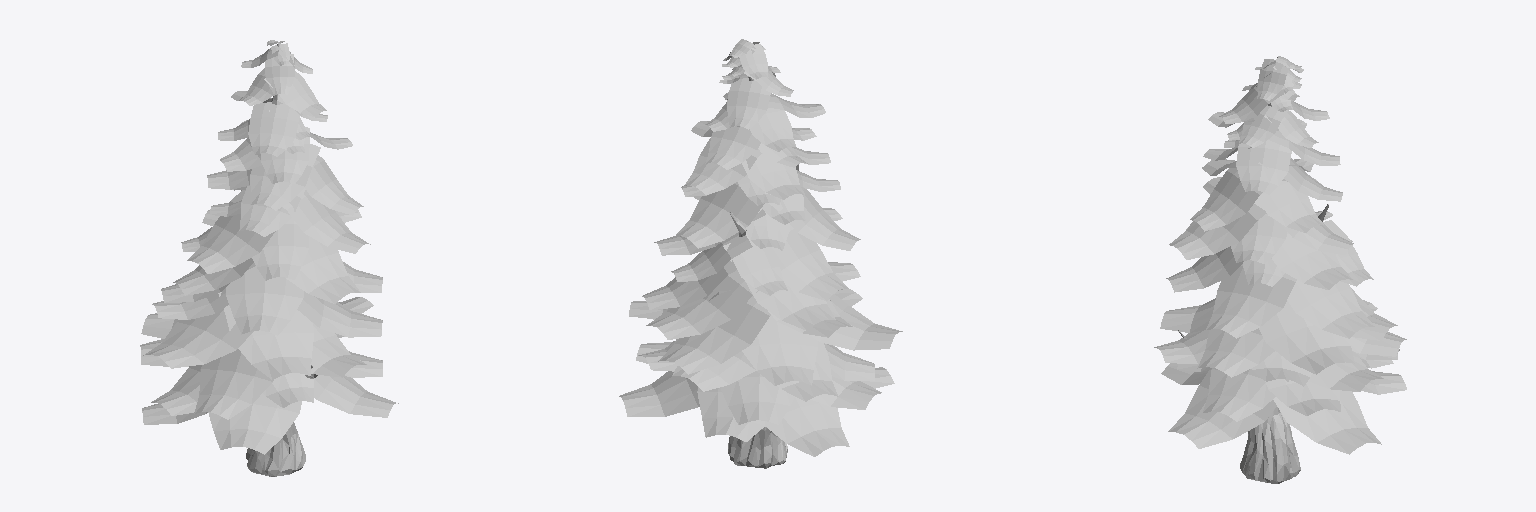
Rendered from tree.obj.
3 views of the same model, side by side, from view 1: azimuth 30°, elevation 25°; view 2: azimuth 150°, elevation 25°; view 3: azimuth 270°, elevation 25° (orthographic).
Parts seen in each view (by area): view 1: Tree_Mat_Tree_0; view 2: Tree_Mat_Tree_0; view 3: Tree_Mat_Tree_0.
Boxes of the visible parts, box(x1,y1,x2,y2) form: Tree_Mat_Tree_0: box(140, 40, 398, 476); Tree_Mat_Tree_0: box(619, 39, 902, 468); Tree_Mat_Tree_0: box(1154, 56, 1406, 483).
Size of the model in its own units: 5.42 by 9.24 by 5.09.